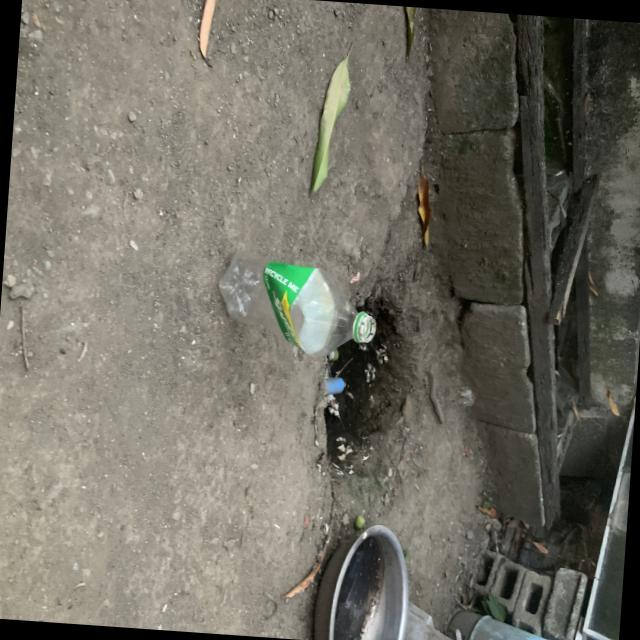Bottle: (218, 250, 376, 353)
